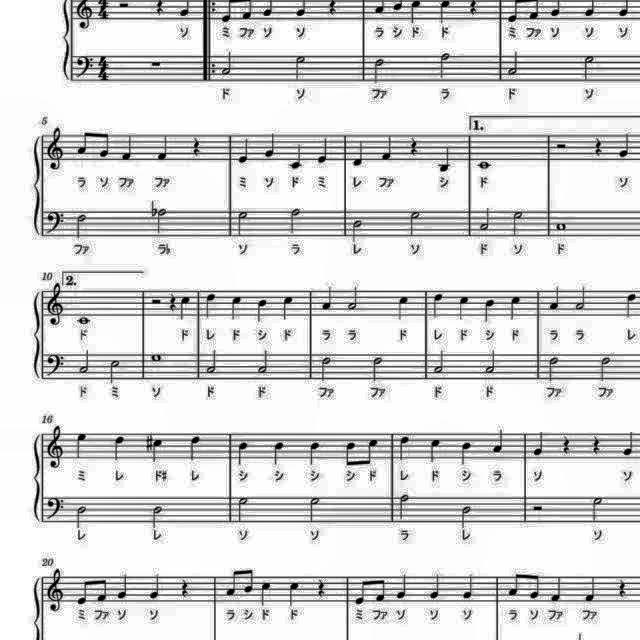Bass-clef: (43, 496, 67, 524), (43, 350, 67, 378), (44, 207, 66, 237), (74, 54, 95, 82)
Diez: (166, 290, 180, 314), (142, 432, 154, 460)
Eighth-note: (342, 438, 360, 470), (362, 436, 380, 468), (352, 576, 368, 608), (98, 128, 114, 160), (74, 574, 90, 606), (222, 566, 238, 598), (74, 126, 90, 158), (526, 572, 542, 602), (507, 569, 523, 599), (96, 574, 110, 606), (242, 566, 256, 598), (506, 0, 524, 24), (372, 574, 386, 602), (218, 1, 234, 23), (526, 0, 542, 20), (550, 0, 566, 20), (262, 1, 278, 20), (582, 1, 598, 20), (240, 0, 255, 20), (372, 0, 387, 16), (390, 0, 405, 12)
Full-note: (476, 158, 496, 174), (74, 313, 92, 327), (148, 350, 164, 364), (554, 218, 570, 232), (529, 501, 545, 514)
Half-note: (290, 52, 310, 84), (578, 54, 598, 85), (509, 206, 528, 238), (407, 208, 425, 240), (304, 492, 322, 524), (435, 50, 453, 82), (586, 492, 604, 524), (231, 492, 249, 524), (151, 204, 169, 236), (597, 354, 615, 384), (317, 355, 335, 385), (477, 203, 495, 233), (72, 212, 90, 242), (369, 56, 387, 86), (235, 208, 251, 240), (369, 354, 386, 384), (432, 346, 450, 374), (482, 347, 500, 375), (255, 346, 273, 374), (149, 502, 167, 530), (504, 50, 522, 78), (217, 50, 235, 78), (286, 206, 302, 237), (76, 345, 92, 375), (398, 493, 414, 523), (544, 355, 560, 385), (572, 284, 588, 314), (346, 284, 362, 314), (203, 347, 220, 375), (459, 501, 476, 529), (72, 504, 90, 530), (350, 216, 366, 244), (106, 358, 122, 386)
Half-rest: (148, 58, 164, 70), (116, 0, 132, 12), (554, 140, 570, 152), (148, 294, 164, 306)
Quarter-note: (436, 142, 456, 174), (620, 429, 640, 459), (270, 439, 290, 469), (184, 432, 203, 463), (304, 439, 324, 468), (395, 432, 413, 464), (622, 289, 640, 321), (287, 140, 305, 172), (548, 574, 566, 606), (150, 436, 168, 468), (72, 431, 90, 462), (429, 290, 446, 322), (233, 134, 250, 166), (455, 293, 473, 323), (617, 130, 635, 160), (481, 296, 499, 326), (253, 296, 271, 326), (425, 435, 443, 465), (393, 293, 411, 323), (285, 579, 303, 609), (146, 571, 164, 601), (155, 132, 173, 162), (110, 434, 128, 464), (235, 439, 253, 468), (203, 290, 219, 322), (350, 138, 366, 170), (584, 574, 600, 606), (121, 132, 137, 164), (114, 572, 130, 604), (264, 129, 280, 161), (317, 134, 333, 166), (230, 293, 247, 323), (459, 572, 476, 602), (489, 427, 506, 457), (379, 132, 396, 162), (279, 294, 297, 322), (507, 294, 525, 322), (530, 428, 546, 459), (318, 284, 334, 314), (426, 572, 442, 602), (548, 284, 564, 314), (393, 573, 409, 603), (458, 439, 474, 467), (260, 579, 276, 607), (176, 294, 192, 322), (435, 0, 453, 24), (292, 1, 310, 20), (410, 0, 424, 24), (617, 0, 633, 20), (176, 0, 192, 20)
Quarter-rest: (187, 132, 203, 158), (176, 575, 192, 601), (616, 576, 632, 600), (558, 434, 574, 458), (313, 576, 329, 600), (588, 432, 604, 456), (408, 132, 422, 158), (592, 134, 606, 158), (464, 0, 480, 18), (323, 0, 340, 16), (151, 0, 166, 16)
Treble-clef: (43, 124, 67, 174), (46, 422, 70, 470), (43, 566, 67, 614), (46, 280, 68, 328), (73, 0, 95, 32)
